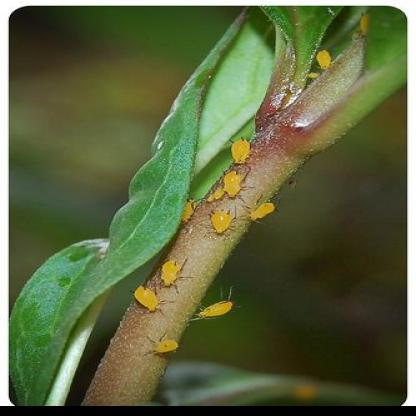aphid: (190, 291, 241, 323), (217, 168, 254, 204), (157, 261, 194, 291), (134, 335, 182, 358), (132, 284, 170, 313), (204, 209, 240, 238), (309, 45, 341, 74), (225, 136, 254, 168), (244, 201, 280, 222), (353, 12, 376, 38), (181, 195, 202, 223)
